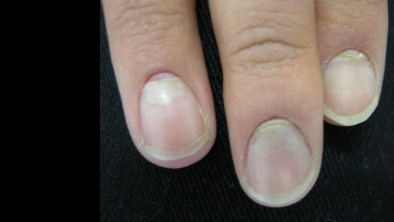SJS-TEN: (221, 95, 327, 186), (125, 60, 204, 125), (314, 32, 382, 103)
